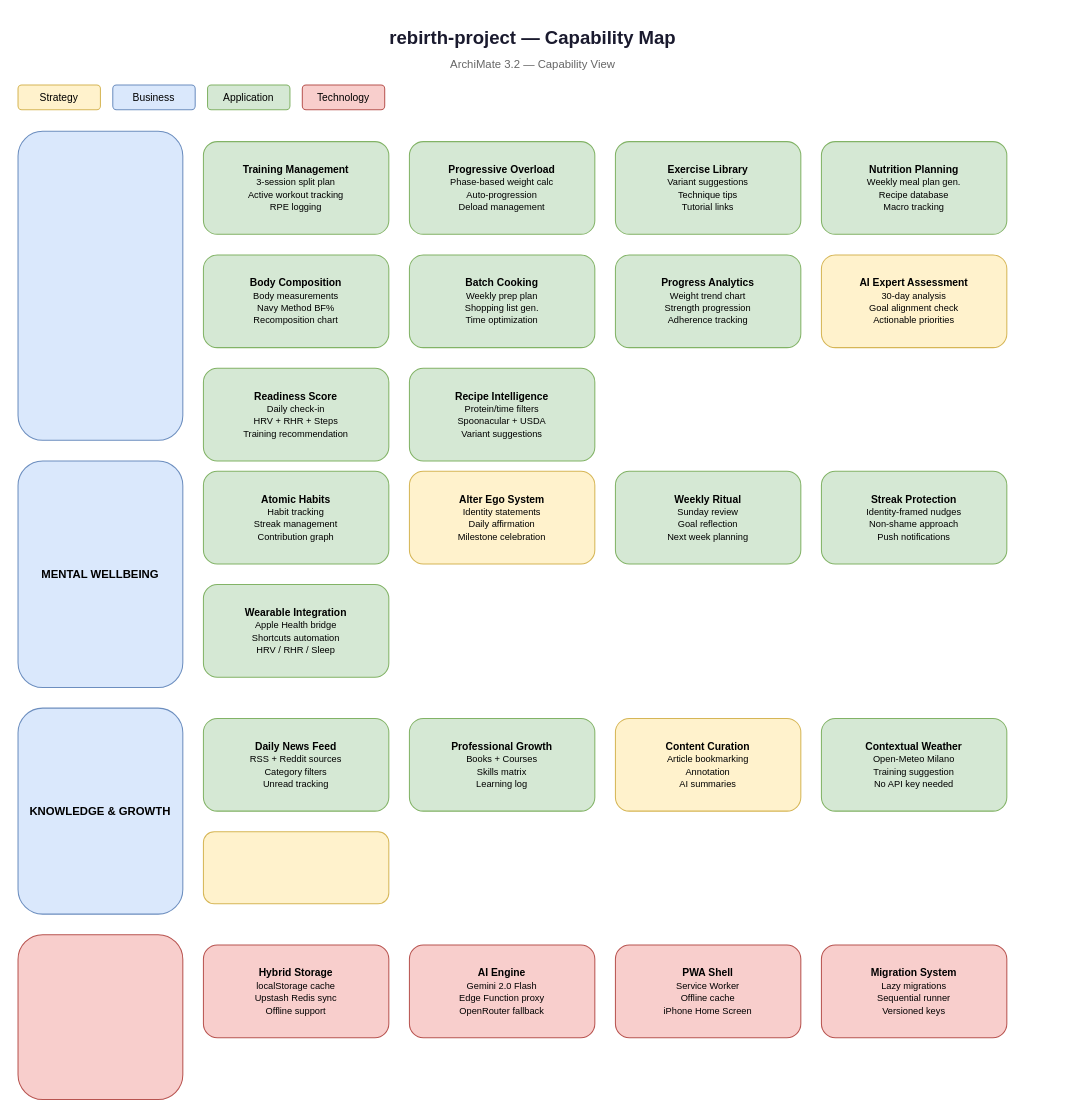
Image size: 1066x1118. Some labels were removed from this diagram. The shapes that lost their labels are listed below. From the top down, each one's box as (x1, y1, x2, y2) in pixels, then its label:
(17, 130, 183, 440): PHYSICAL WELLBEING
(202, 831, 389, 904): AI Coach Chat Contextual advice Full data awareness Proactive insights
(17, 934, 183, 1100): PLATFORM SERVICES
